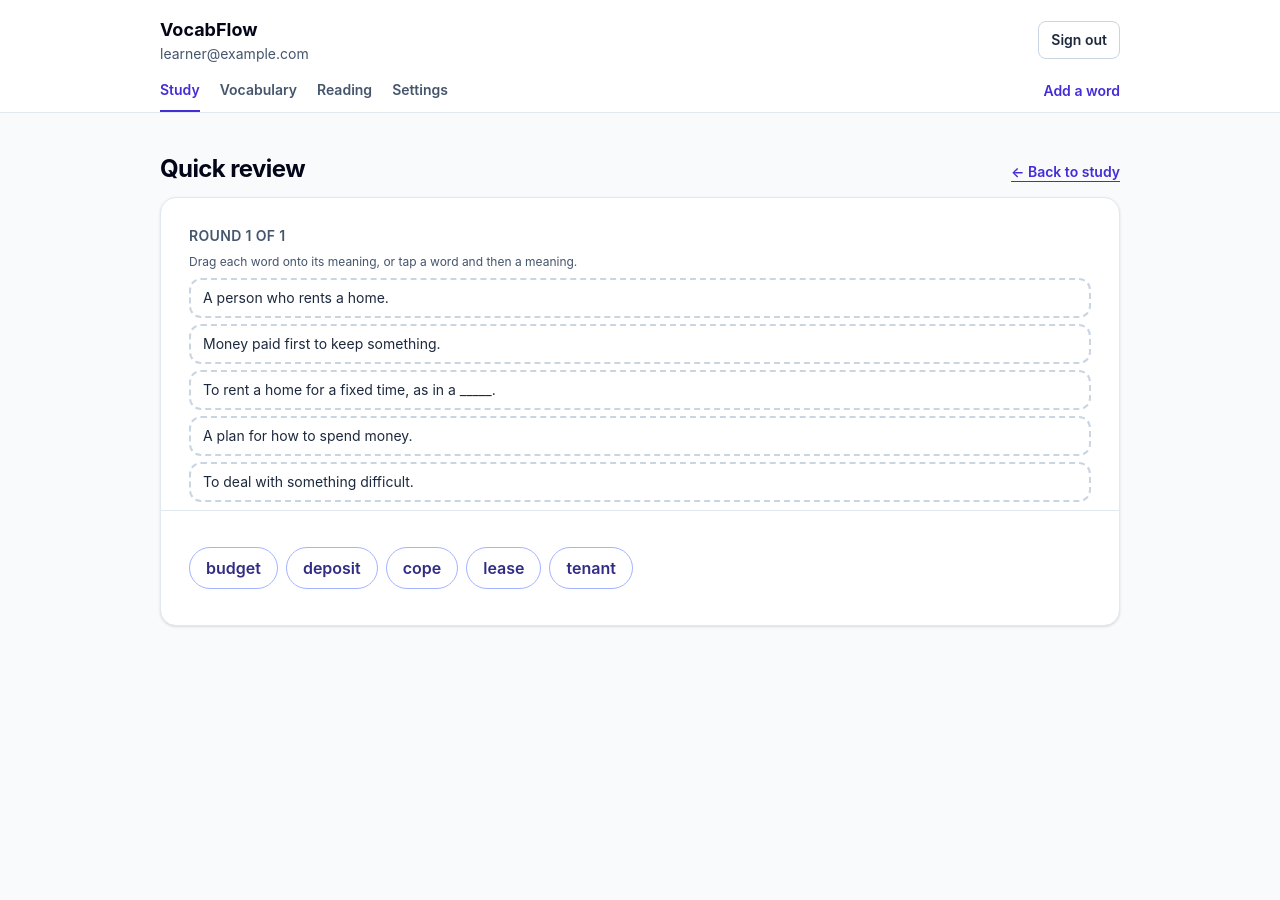
Scenario: a word dragged onto its meaning is placed, and one dropped on the wrong meaning or nowhere is not
This screenshot has width=1280, height=900.
Expected: the heading "Round 1 of 1" is shown, [189,227,286,244]
Press the mouse on the button "cope": x=422, y=568 [386,547,458,589]
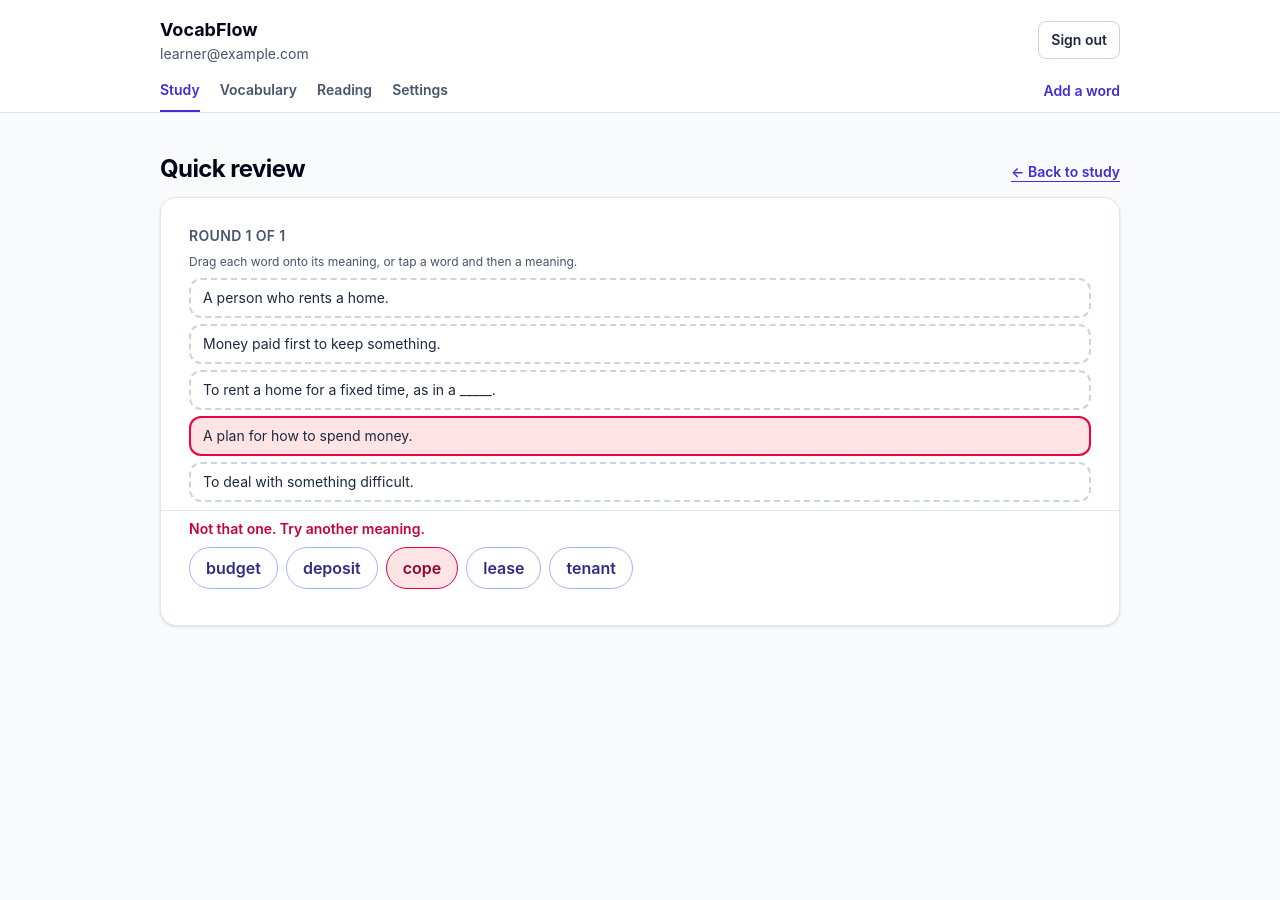
Expected: the message shows "Not that one", [189,520,425,537]
Press the mouse on the button "cope": x=422, y=568 [386,547,458,589]
Press the mouse on the button "cope": x=422, y=568 [386,547,458,589]
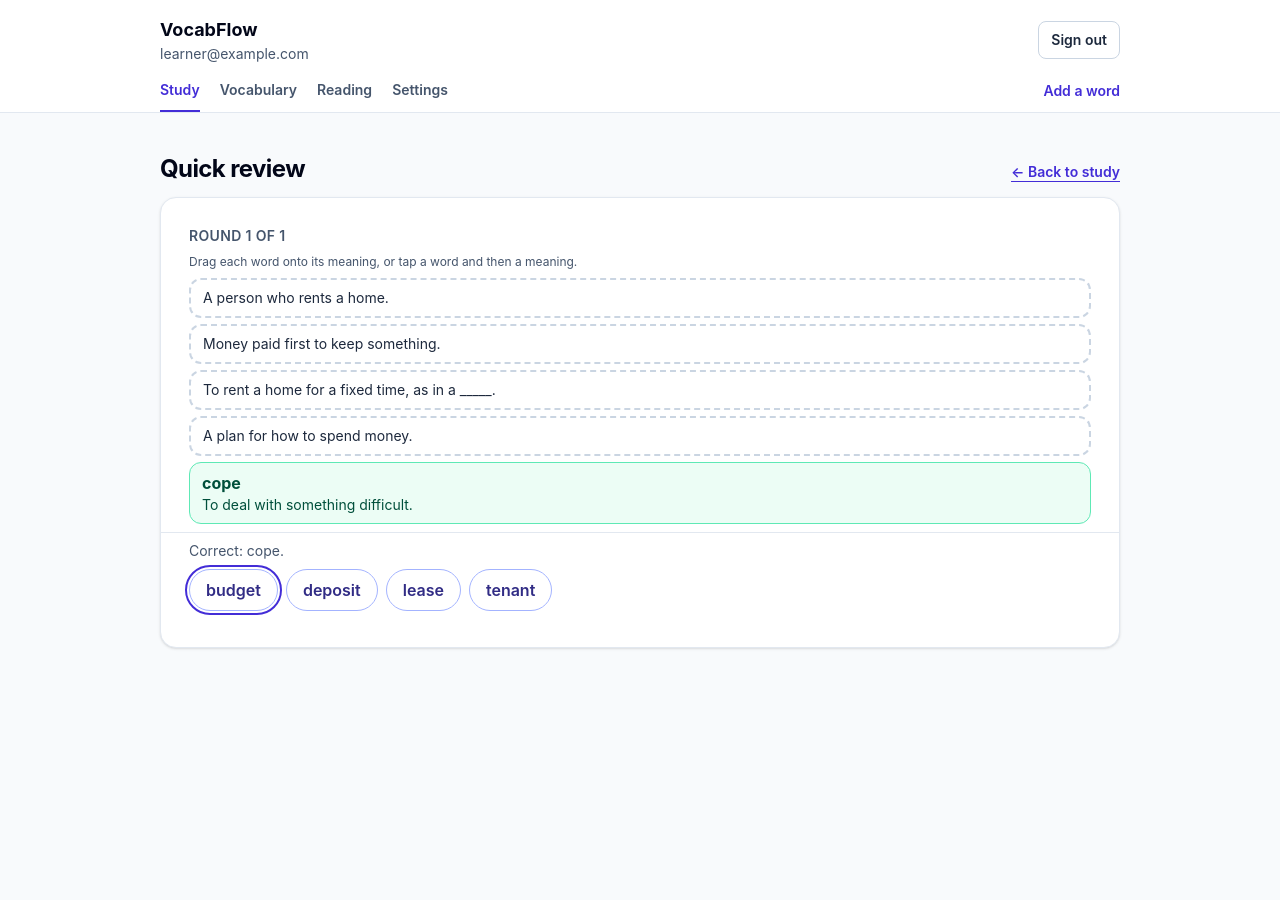
Expected: the message reads "Correct: cope.", [189,542,284,559]
